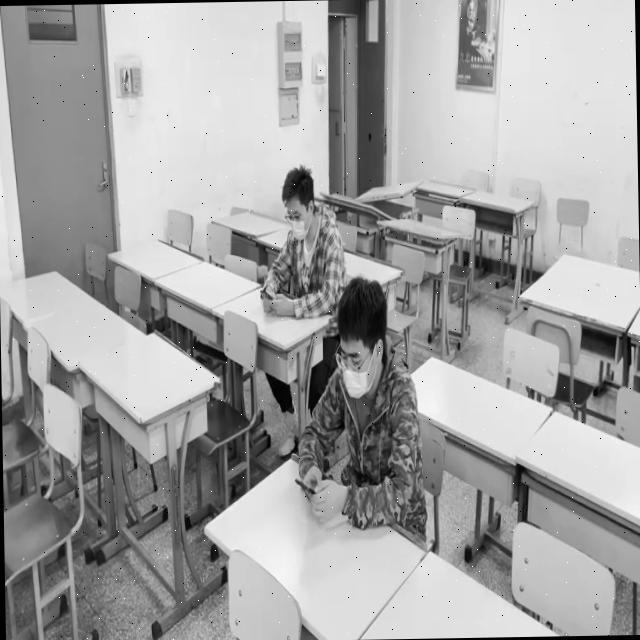phone: (291, 319, 414, 525), (256, 176, 333, 318)
